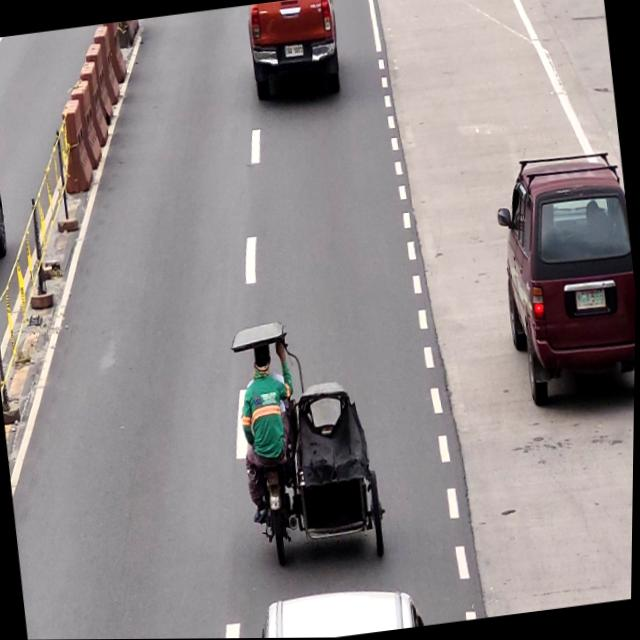Car: (490, 150, 638, 417), (245, 0, 347, 114), (234, 586, 424, 639)
License-Plate: (575, 288, 609, 317), (282, 41, 304, 59)
Tricycle: (223, 313, 393, 578)
